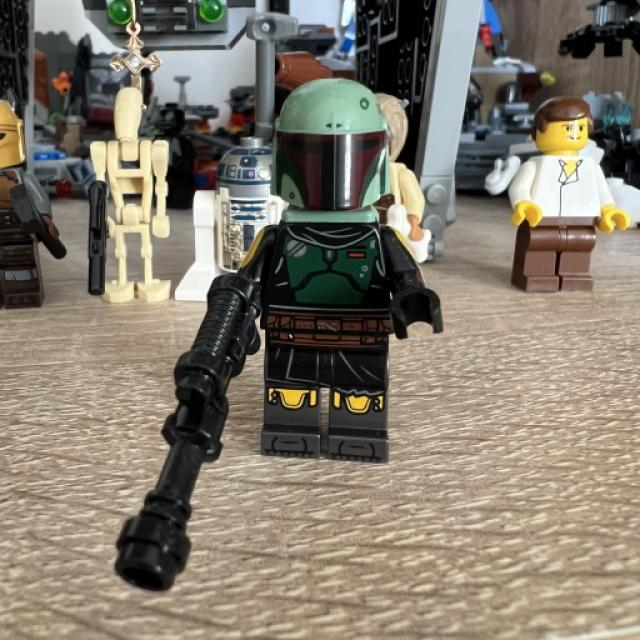Lego-Minifigures: (90, 66, 462, 601), (500, 77, 637, 304), (84, 81, 178, 315)
